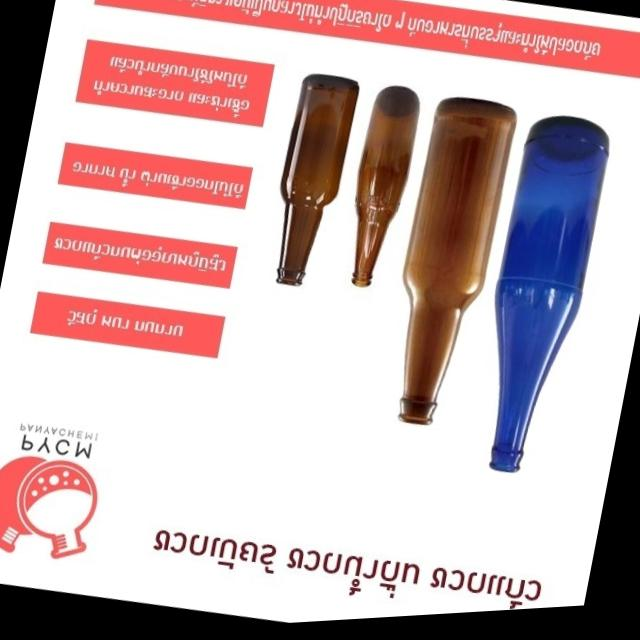glass: (491, 116, 608, 470), (400, 98, 515, 423), (277, 75, 357, 284), (352, 86, 418, 285)
